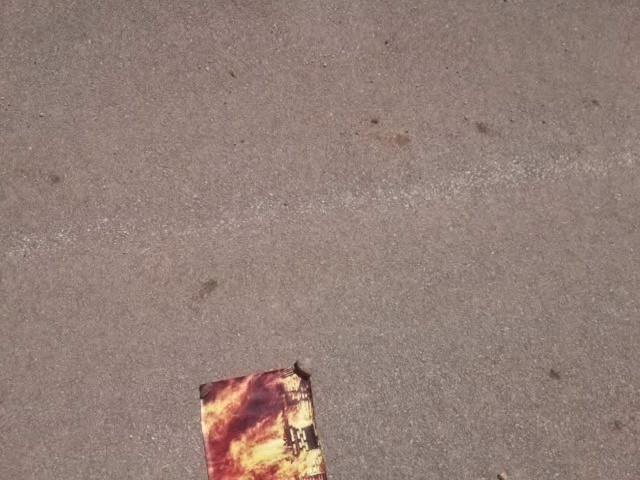fire-poster: (196, 358, 330, 479)
